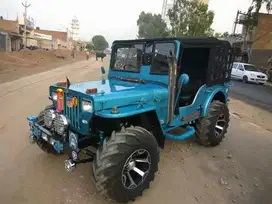Vehicle: (26, 36, 234, 197)
